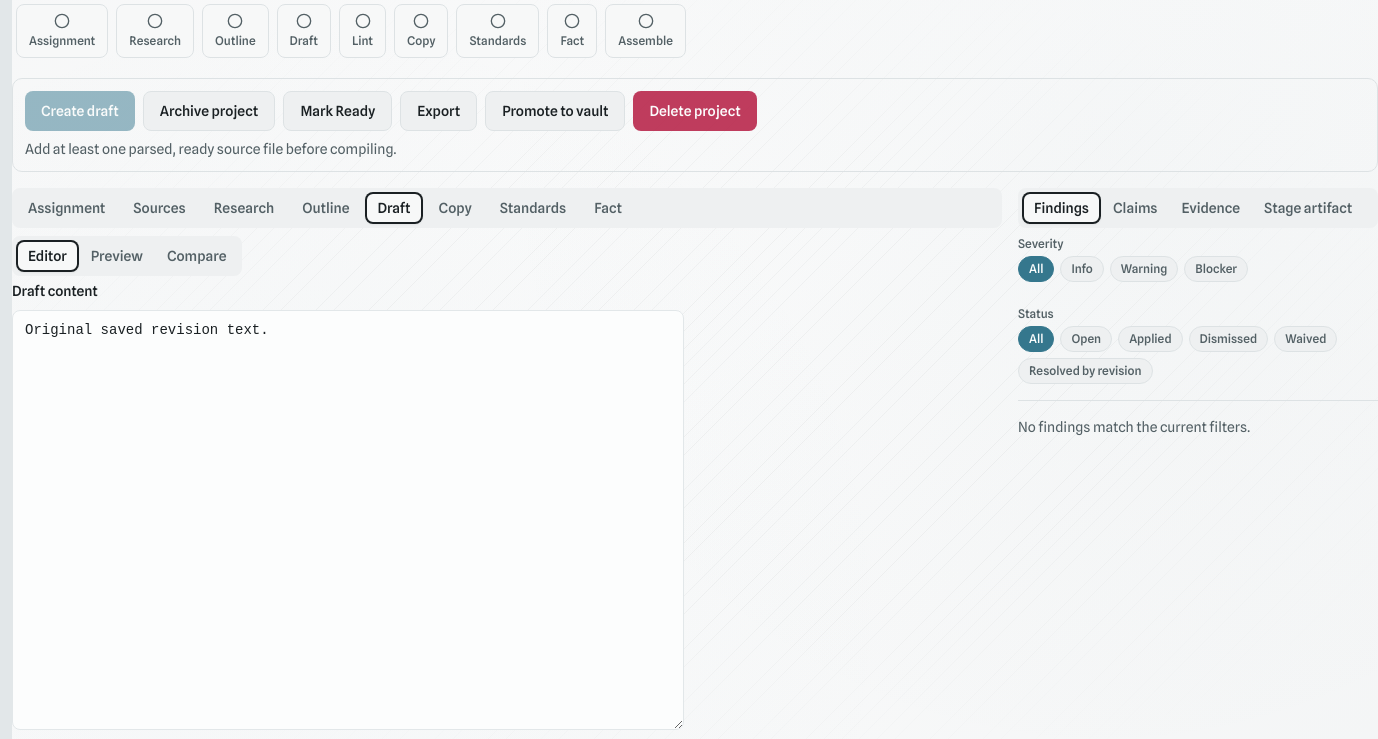
Test case: DraftWorkspace (issue #517) › AC15: typing in the editor surfaces a stale-checks notice on the findings panel
The width and height of the screenshot is (1378, 739).
Expected: the text "No findings match the current filters." is shown, [1018,419,1250,435]
Replace the text in the text box labelled "Draft content" with "Edited text with unsaved changes." at [348, 520], box [12,310,684,730]
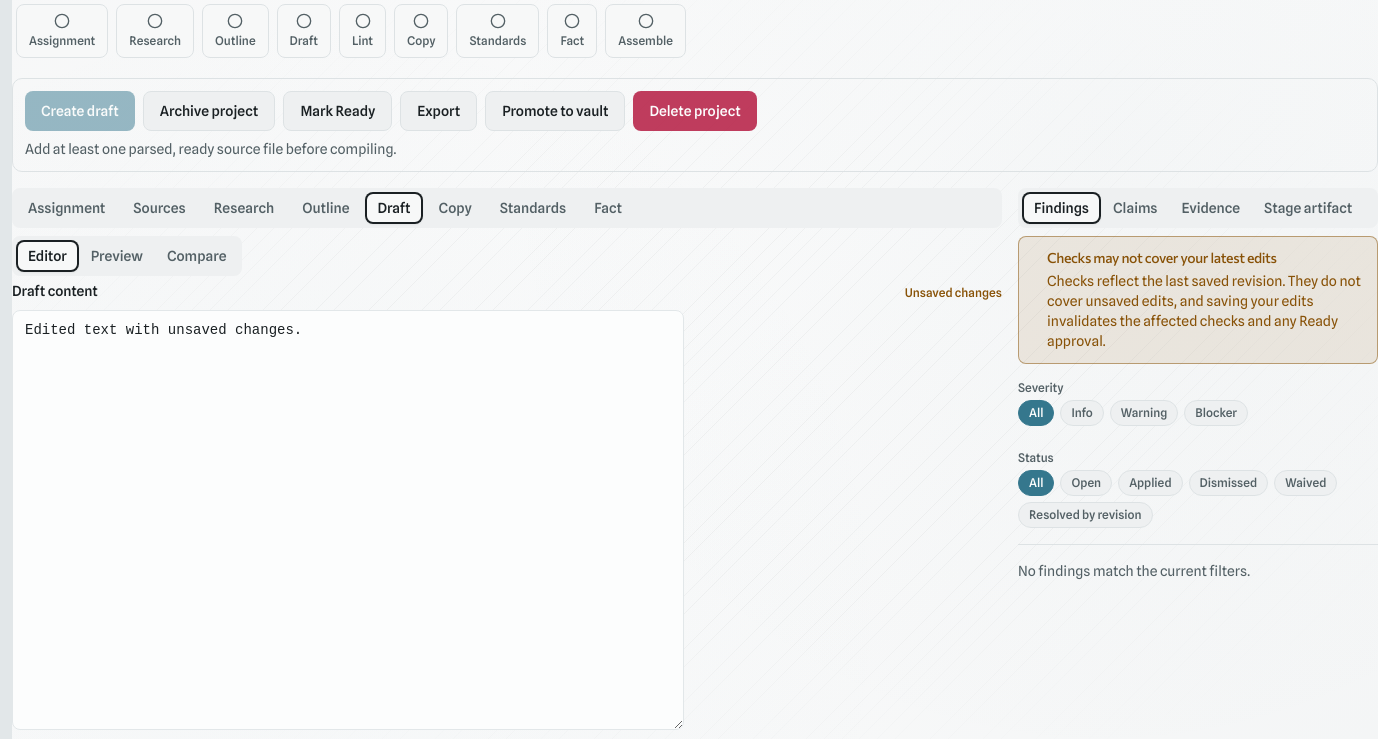
Result: the text "reflect the last saved revision" is shown at [1047,272,1361,348]
